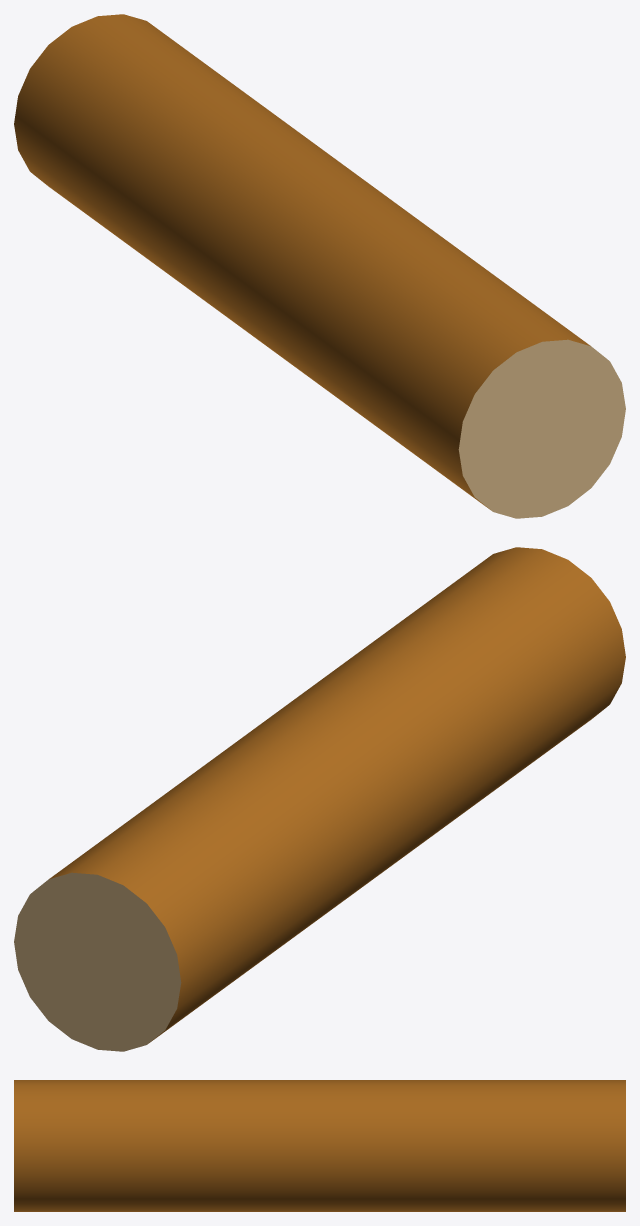
The model's file is LOG.fbx.
The picture shows the model from 3 angles, top to bottom: view 1: azimuth 30°, elevation 25°; view 2: azimuth 150°, elevation 25°; view 3: azimuth 270°, elevation 25°; orthographic projection. The views are drawn at different scales.
Visible parts, largest first — view 1: pCylinder1; view 2: pCylinder1; view 3: pCylinder1.
Boxes of the visible parts, x1,y1,x2,y2 form: pCylinder1: (14, 14, 625, 518); pCylinder1: (14, 547, 625, 1051); pCylinder1: (14, 1080, 625, 1211).
Bounding box in the file's own units: 945 × 945 × 4351.
